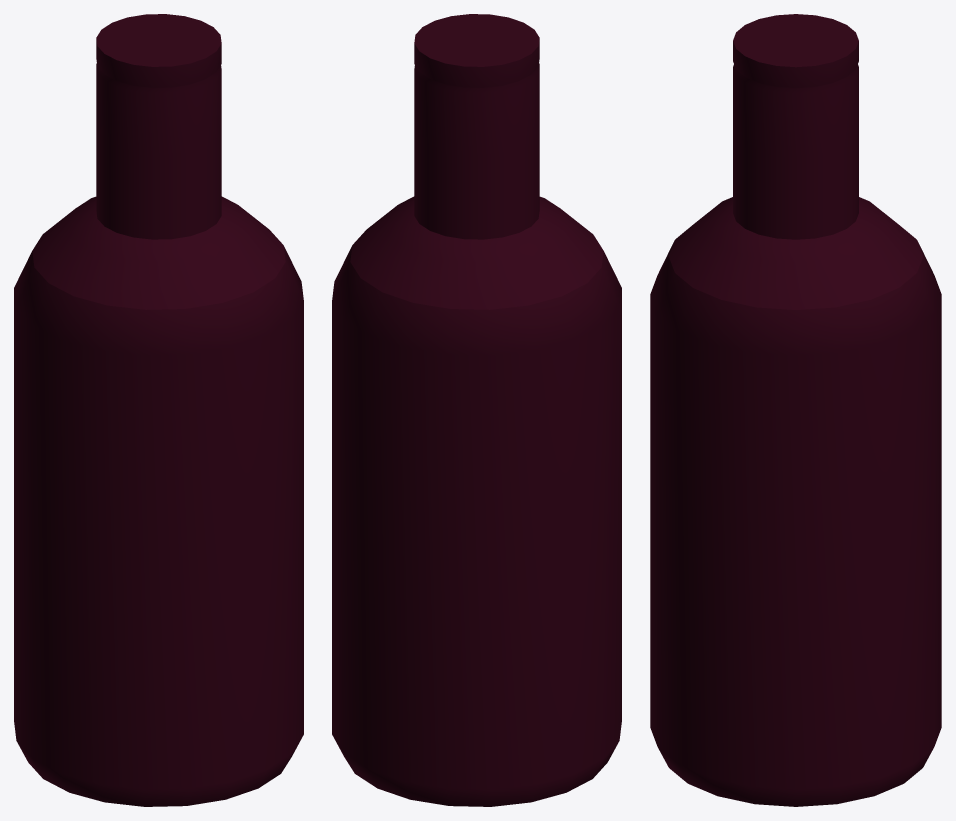
File: wine bottle.fbx
3 views of the same model, side by side, from view 1: azimuth 30°, elevation 25°; view 2: azimuth 150°, elevation 25°; view 3: azimuth 270°, elevation 25° (orthographic).
Visible parts, largest first — view 1: pCylinder1; view 2: pCylinder1; view 3: pCylinder1.
Boxes of the visible parts, x1,y1,x2,y2 form: pCylinder1: [14, 14, 303, 806]; pCylinder1: [332, 14, 621, 806]; pCylinder1: [650, 14, 941, 806].
Size of the model in its own units: 2 by 5.38 by 2.
